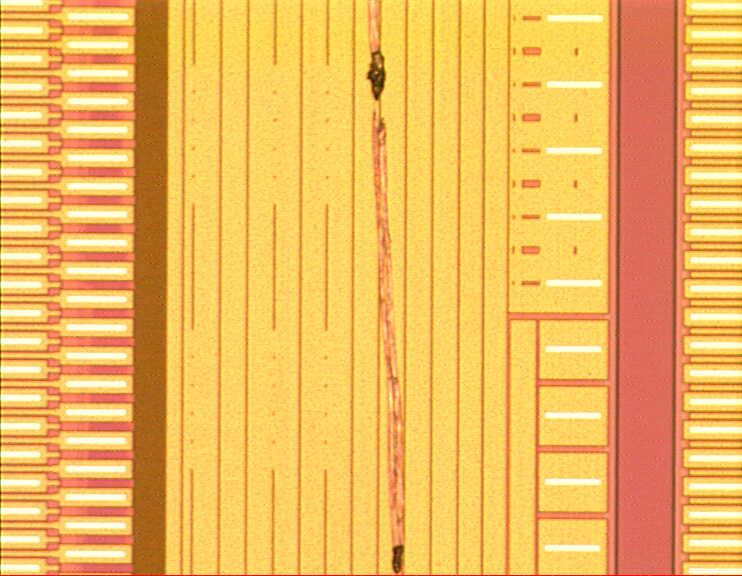SCRATCH: (352, 1, 427, 576)
